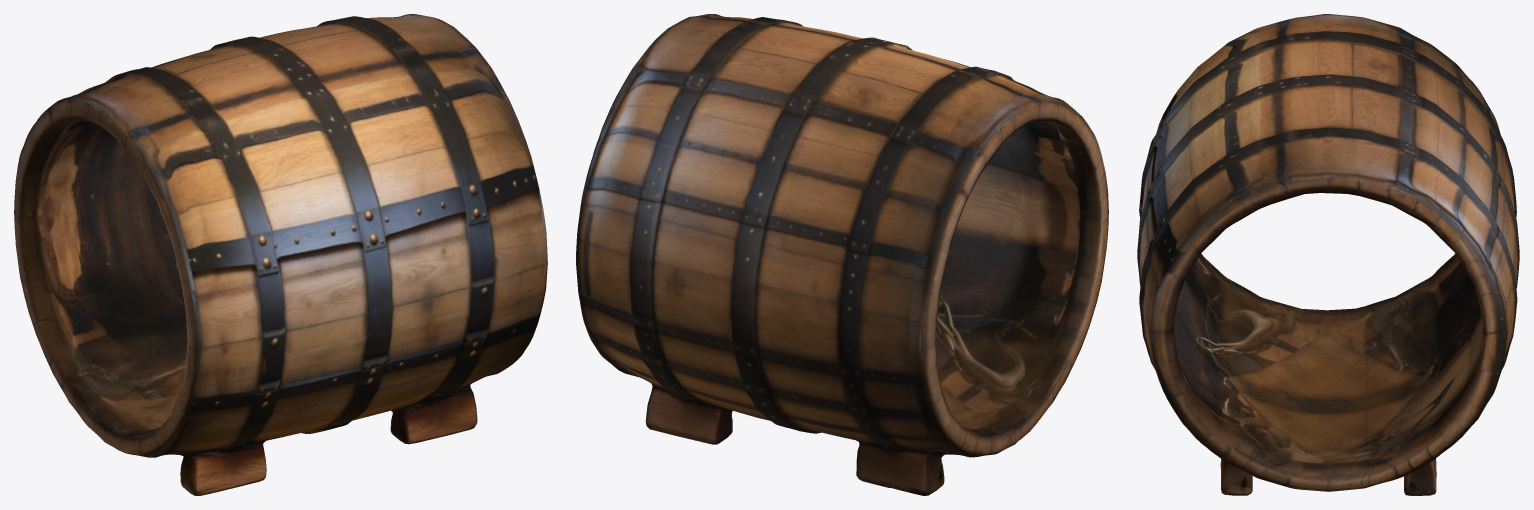
The model's file is tavern_barrel.glb.
3 renders of one model, left to right at view 1: azimuth 30°, elevation 25°; view 2: azimuth 150°, elevation 25°; view 3: azimuth 270°, elevation 25°, orthographic. The views are drawn at different scales.
Parts seen in each view (by area): view 1: Mesh1.0; view 2: Mesh1.0; view 3: Mesh1.0.
Part boxes in pixels (bbox=[...]): Mesh1.0: bbox=[14, 14, 547, 495]; Mesh1.0: bbox=[576, 14, 1108, 495]; Mesh1.0: bbox=[1137, 14, 1519, 495].
Bounding box in the file's own units: 1.98 × 1.98 × 1.94.
1 material, 1 textured.
